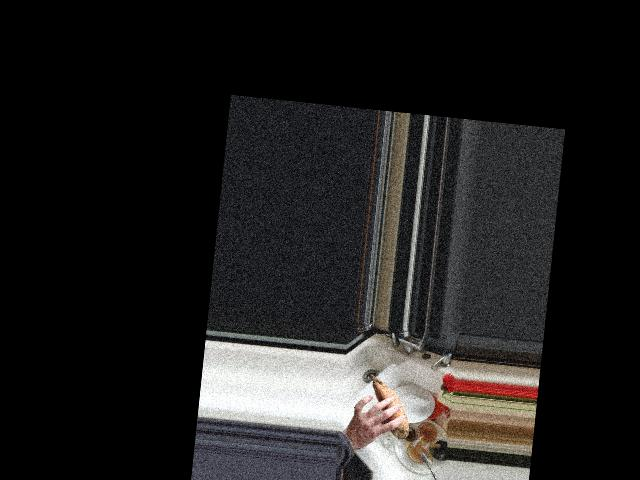sweet_potato: (364, 373, 414, 439)
